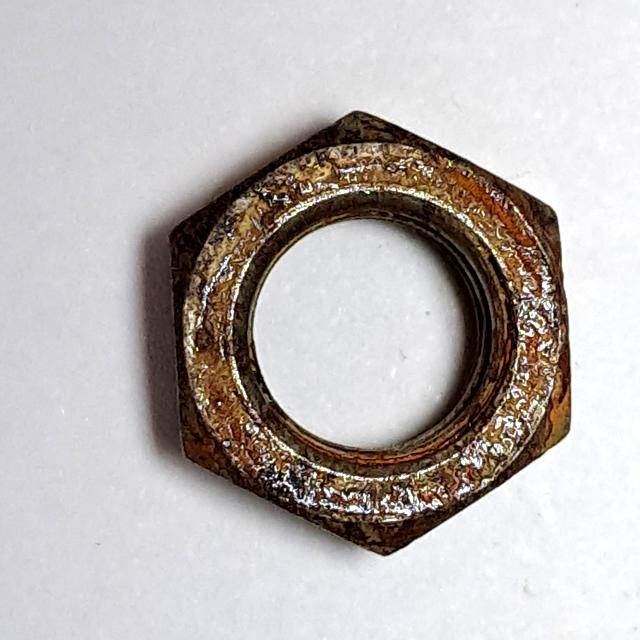Rust: (158, 100, 584, 570)
